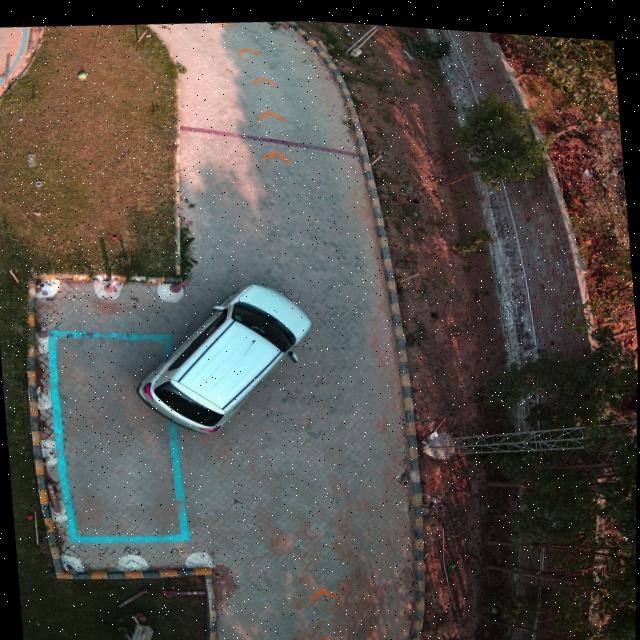car: (137, 280, 310, 429)
